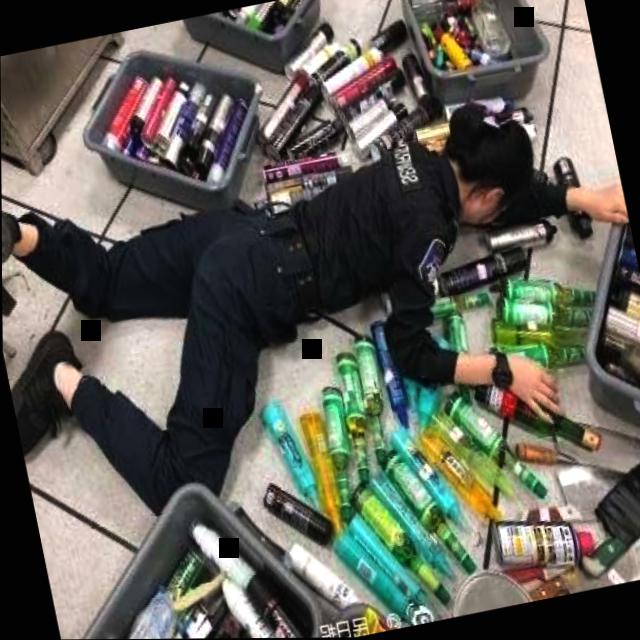Fall-Detected: (0, 40, 640, 536)
